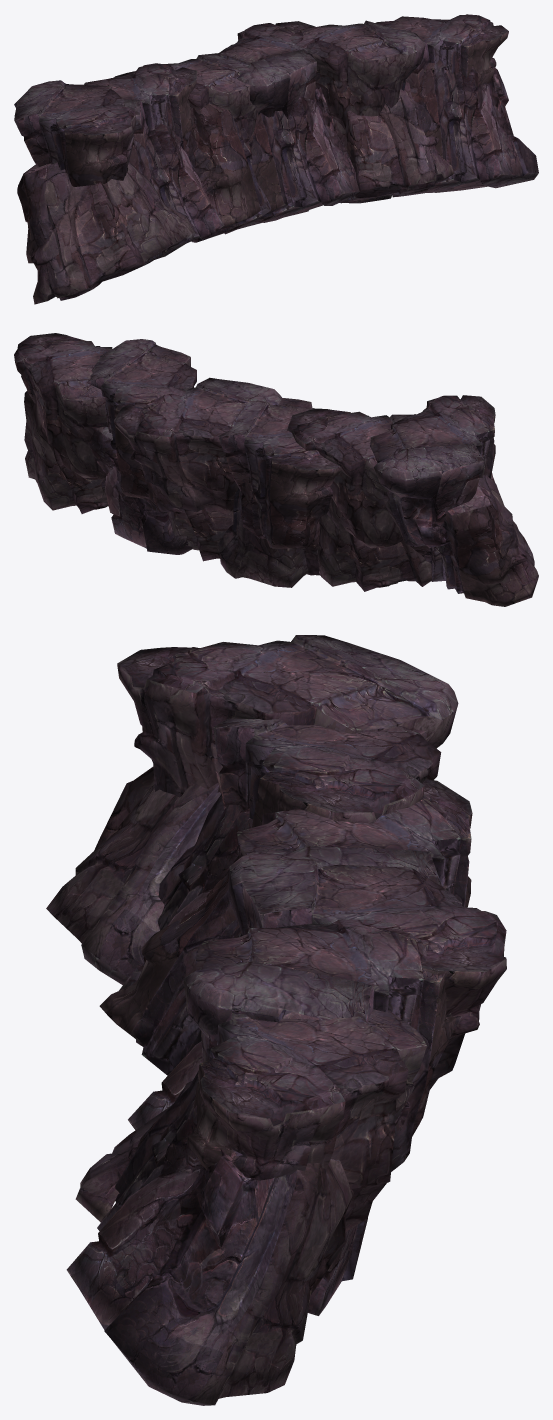
Rendered from bel_env_boulder_wall_curve_06.glb.
3 renders of one model, top to bottom at view 1: azimuth 30°, elevation 25°; view 2: azimuth 150°, elevation 25°; view 3: azimuth 270°, elevation 25°, orthographic. The views are drawn at different scales.
Parts seen in each view (by area): view 1: bel_env_boulder_wall_curve_06; view 2: bel_env_boulder_wall_curve_06; view 3: bel_env_boulder_wall_curve_06.
Part boxes in pixels (x1,y1,x2,y2): bel_env_boulder_wall_curve_06: [14, 14, 538, 304]; bel_env_boulder_wall_curve_06: [14, 333, 538, 606]; bel_env_boulder_wall_curve_06: [46, 635, 506, 1405].
Size of the model in its own units: 7.04 by 2.49 by 2.83.
1 material, 1 textured.
